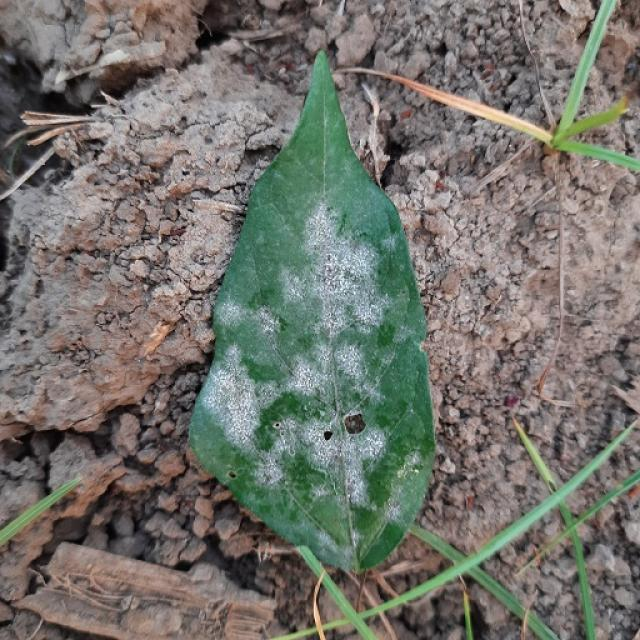Blackgram: (190, 52, 434, 570)
Powdery_Mildew: (221, 212, 408, 496), (296, 207, 390, 336), (305, 196, 382, 345), (202, 353, 269, 450), (286, 345, 336, 401), (263, 392, 318, 432), (395, 458, 422, 480)
